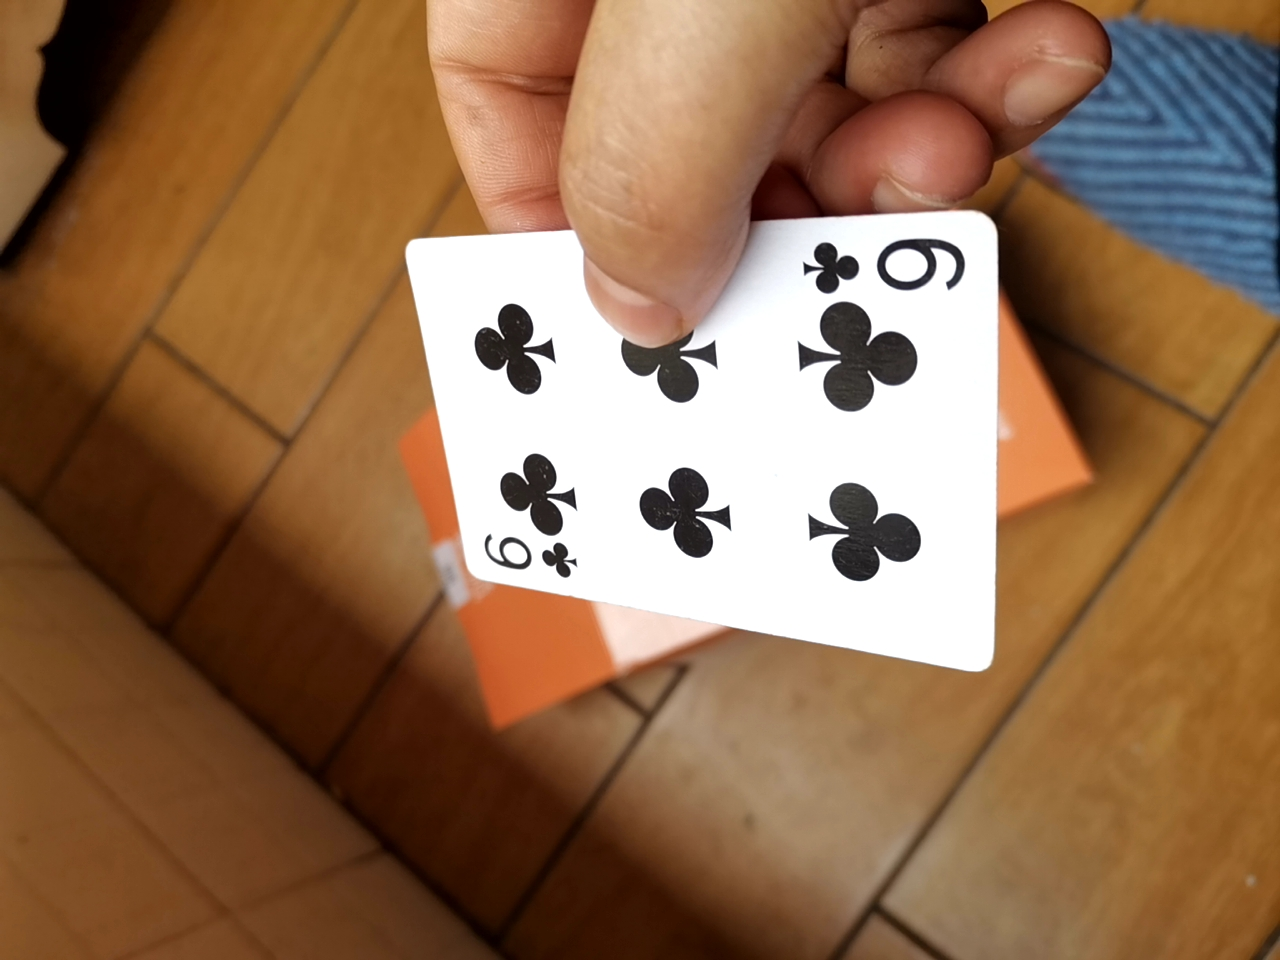mh 6: (415, 203, 1010, 680)
